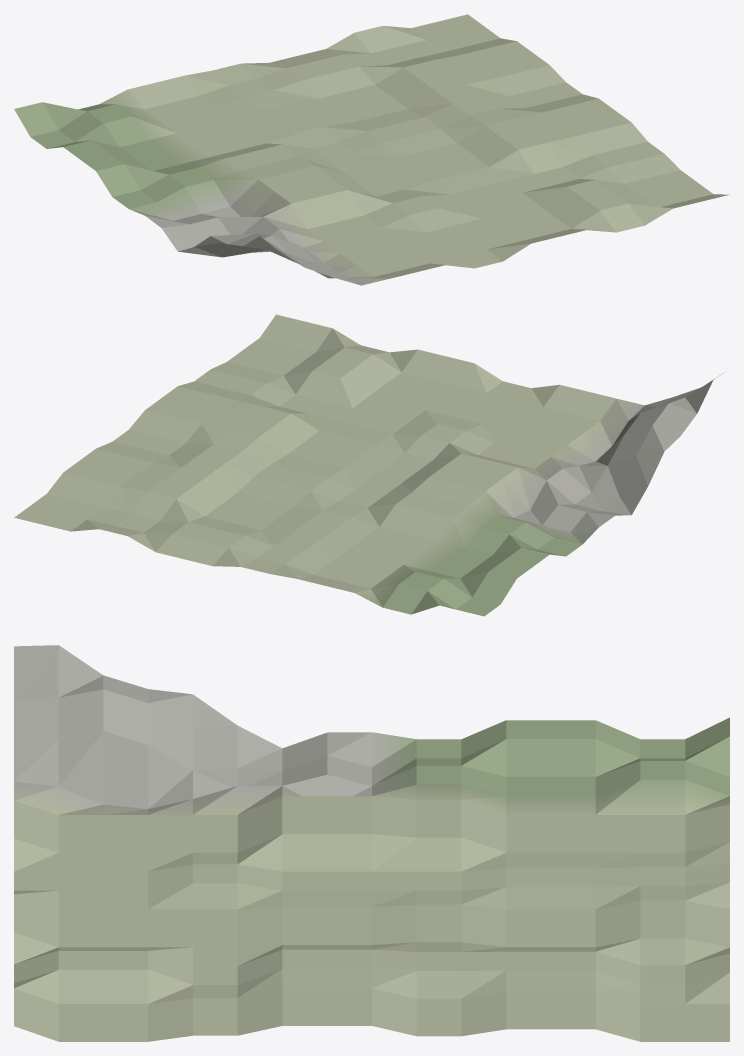
3 views of the same model, one above another, from view 1: azimuth 30°, elevation 25°; view 2: azimuth 150°, elevation 25°; view 3: azimuth 270°, elevation 25° (orthographic). The views are drawn at different scales.
Size of the model in its own units: 32 by 5.33 by 32.
